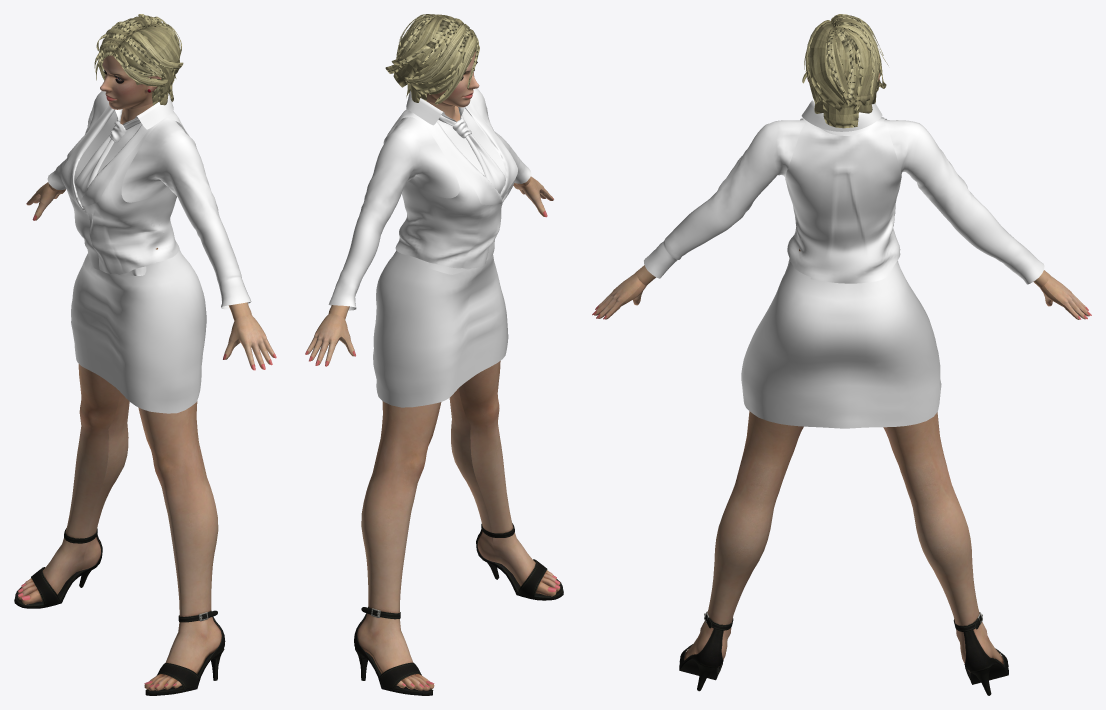
File: StewardessClothes.fbx
The picture shows the model from 3 angles, left to right: view 1: azimuth 30°, elevation 25°; view 2: azimuth 150°, elevation 25°; view 3: azimuth 270°, elevation 25°; orthographic projection. The views are drawn at different scales.
Visible parts, largest first — view 1: object_2, object_1, object_0, polySurface43, polySurface44, Object_cnv_CRI_HAIR1_BASE_BLONDE.JPG, Object_cnv_CRI_DLCU_007_03_BASE.JPG, polySurface46, polySurface50, polySurface21, Object_cnv_CRI_FACE_BASE.JPG, polySurface51; view 2: object_2, object_1, object_0, polySurface44, polySurface43, Object_cnv_CRI_HAIR1_BASE_BLONDE.JPG, Object_cnv_CRI_DLCU_007_03_BASE.JPG, polySurface50, polySurface46, polySurface51, Object_cnv_CRI_FACE_BASE.JPG, polySurface21; view 3: object_2, object_0, object_1, polySurface43, polySurface44, Object_cnv_CRI_HAIR1_BASE_BLONDE.JPG, Object_cnv_CRI_DLCU_007_03_BASE.JPG, polySurface21, polySurface51.
Part boxes in pixels (x1,y1,x2,y2): object_2: (71, 250, 206, 413); object_1: (47, 91, 251, 309); object_0: (61, 105, 189, 274); polySurface43: (138, 401, 218, 616); polySurface44: (65, 364, 129, 538); Object_cnv_CRI_HAIR1_BASE_BLONDE.JPG: (94, 14, 183, 105); Object_cnv_CRI_DLCU_007_03_BASE.JPG: (14, 528, 225, 695); polySurface46: (144, 617, 221, 690); polySurface50: (18, 537, 100, 604); polySurface21: (223, 302, 276, 370); Object_cnv_CRI_FACE_BASE.JPG: (100, 55, 161, 109); polySurface51: (26, 182, 65, 220); object_2: (373, 250, 508, 407); object_1: (328, 88, 531, 310); object_0: (386, 102, 517, 268); polySurface44: (361, 401, 441, 613); polySurface43: (449, 361, 513, 533); Object_cnv_CRI_HAIR1_BASE_BLONDE.JPG: (385, 14, 479, 104); Object_cnv_CRI_DLCU_007_03_BASE.JPG: (354, 523, 563, 695); polySurface50: (357, 613, 434, 690); polySurface46: (477, 531, 560, 596); polySurface51: (305, 305, 355, 366); Object_cnv_CRI_FACE_BASE.JPG: (426, 51, 479, 107); polySurface21: (513, 176, 553, 217); object_2: (741, 258, 941, 428); object_0: (785, 117, 901, 283); object_1: (644, 100, 1044, 284); polySurface43: (707, 411, 803, 624); polySurface44: (883, 412, 979, 625); Object_cnv_CRI_HAIR1_BASE_BLONDE.JPG: (802, 14, 888, 128); Object_cnv_CRI_DLCU_007_03_BASE.JPG: (679, 611, 1008, 695); polySurface21: (592, 265, 655, 319); polySurface51: (1033, 270, 1091, 319).
Size of the model in its own units: 0.462 by 2.5 by 1.68.
